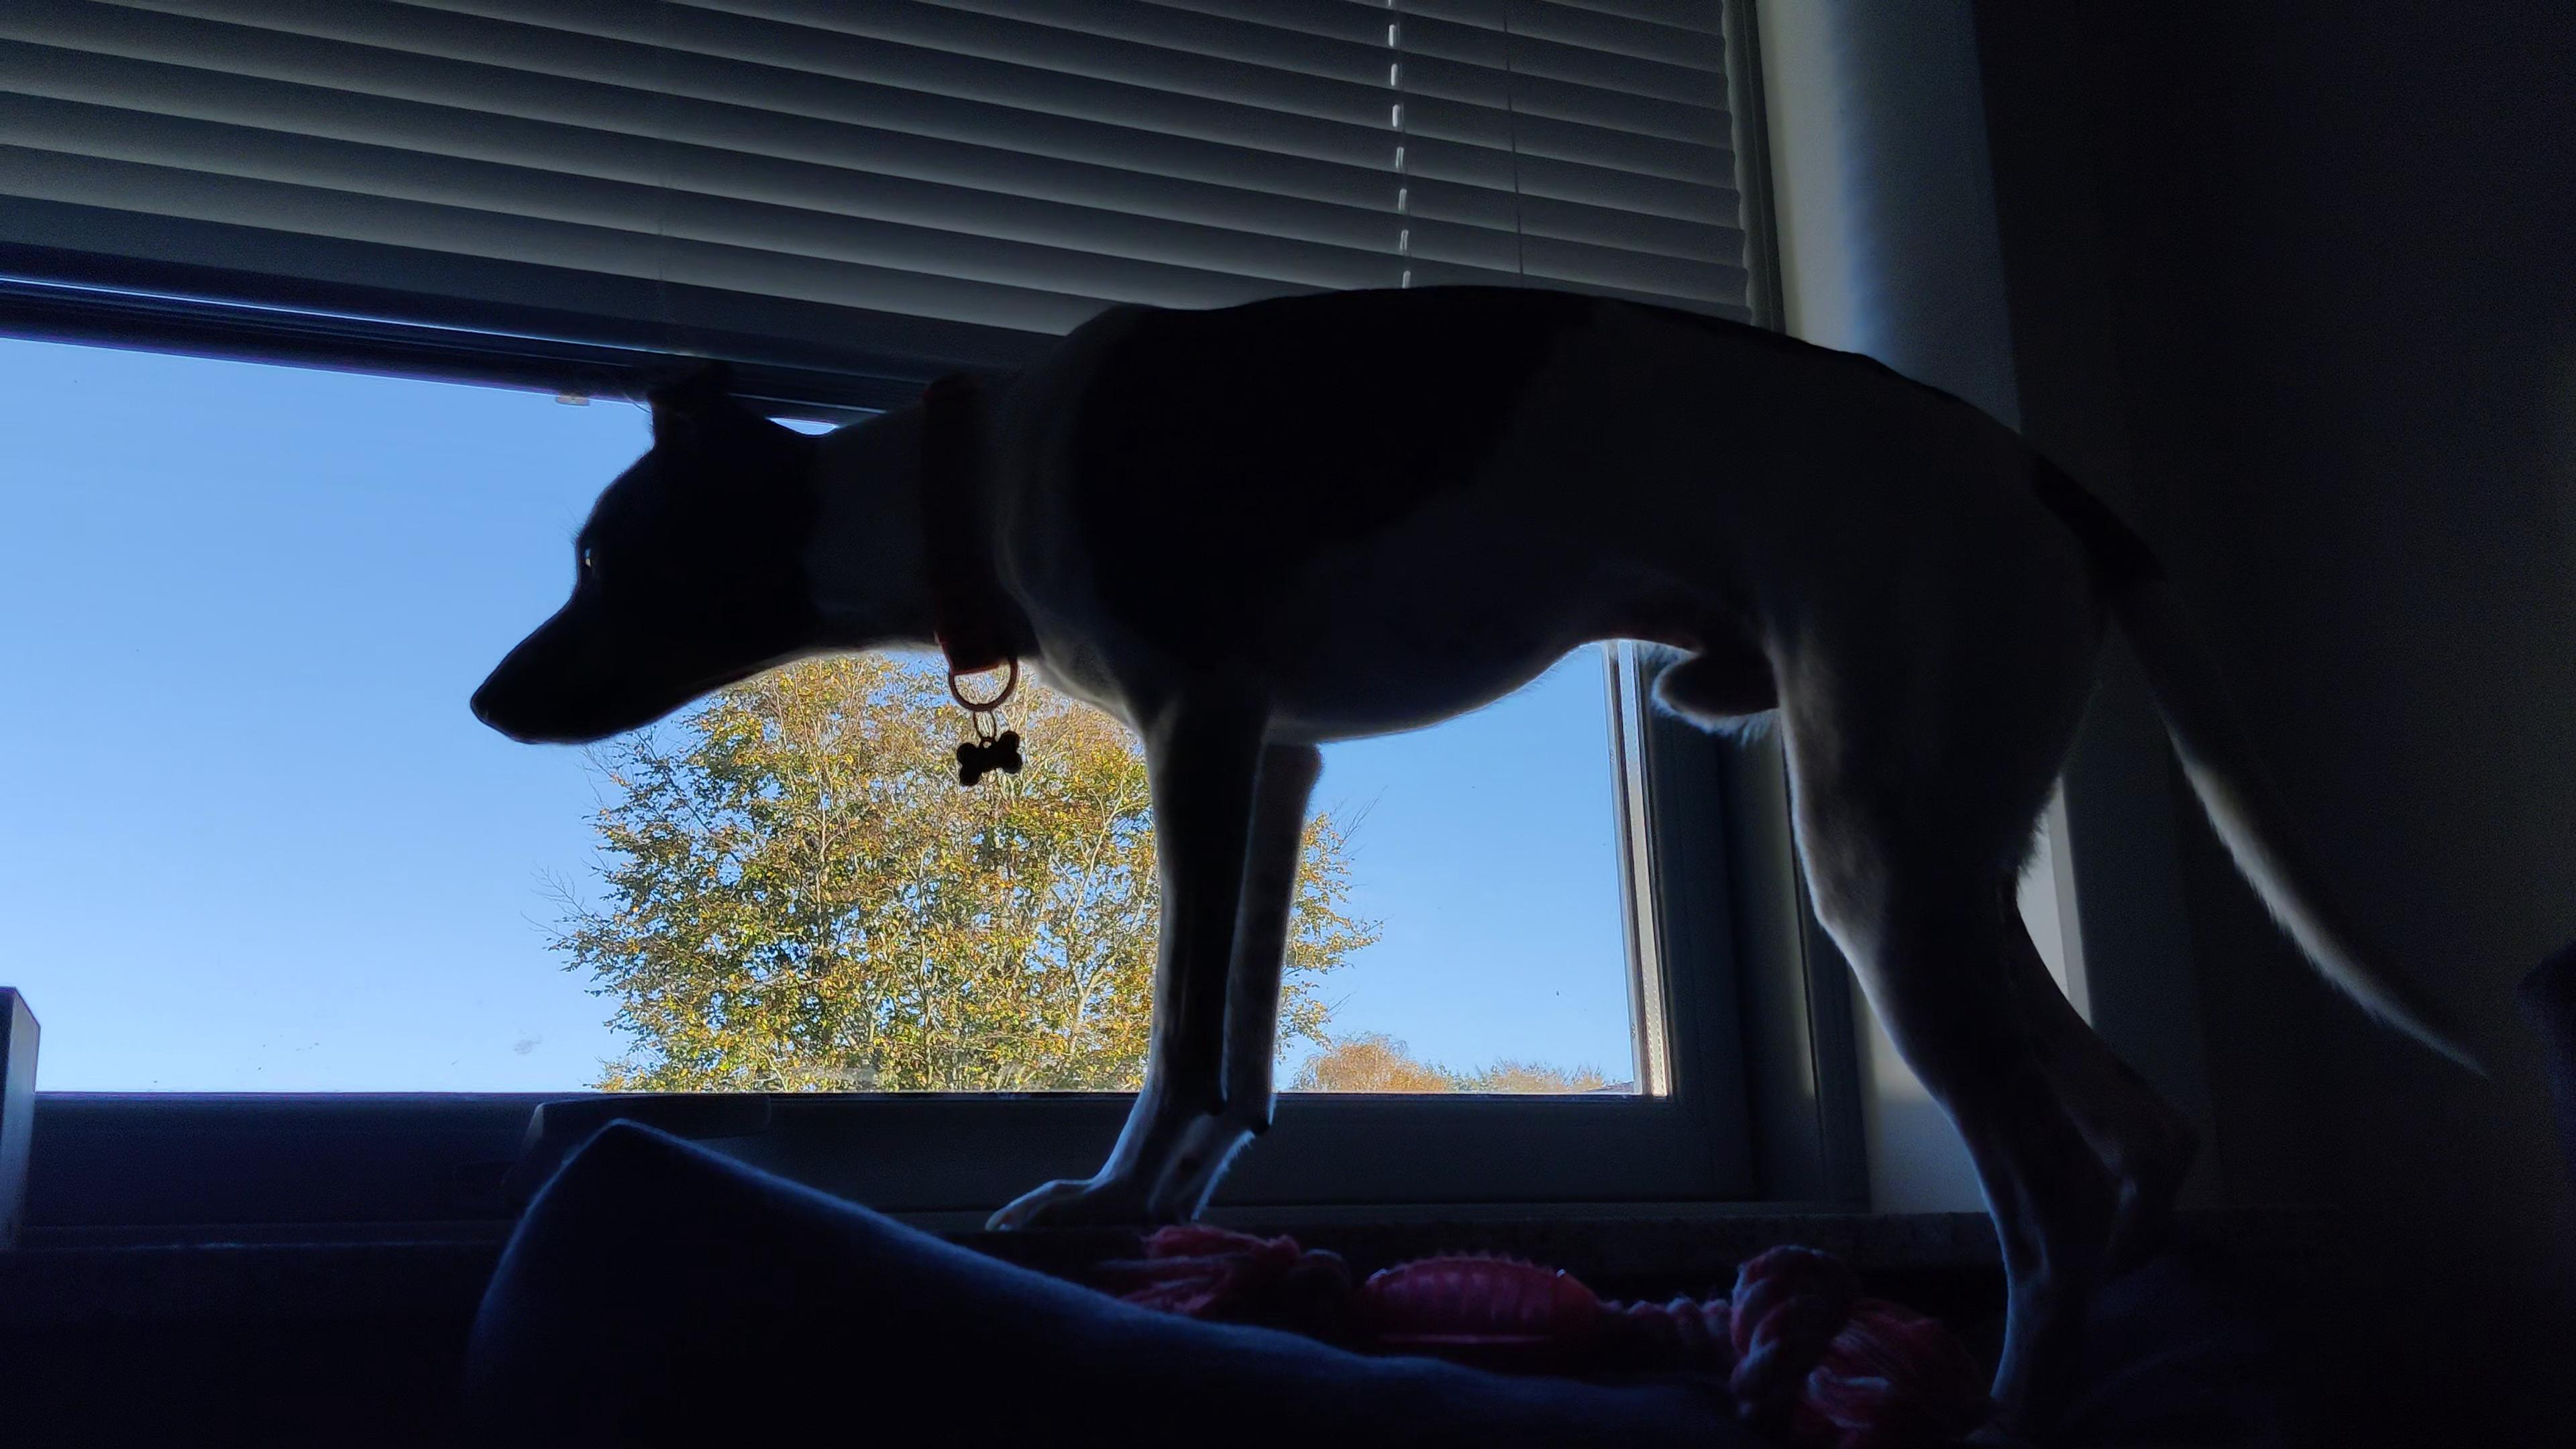Dog: (462, 276, 2507, 1449)
